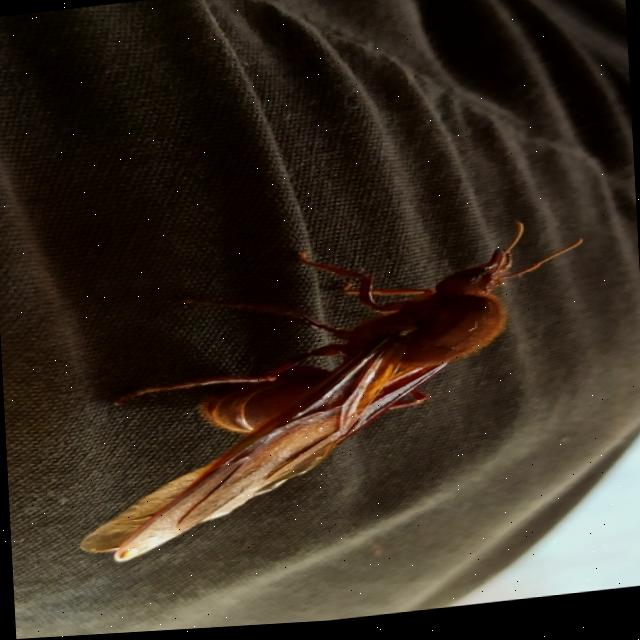Alive-Female-Alate: (64, 220, 600, 570)
